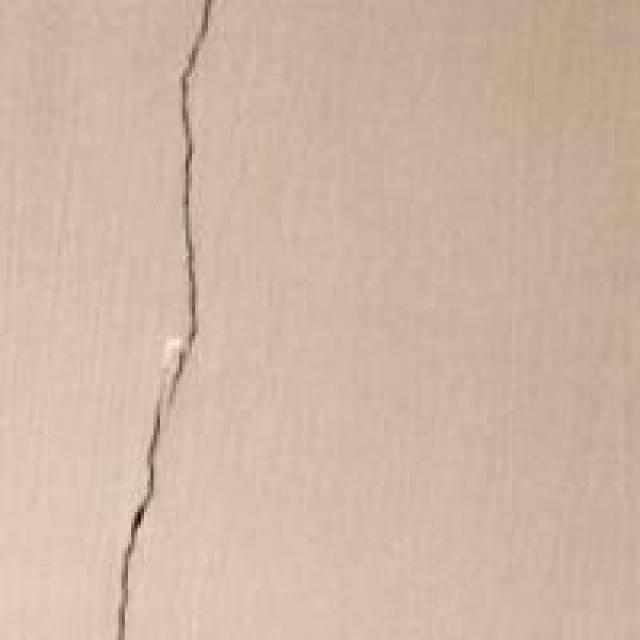Crack: (92, 5, 238, 629)
